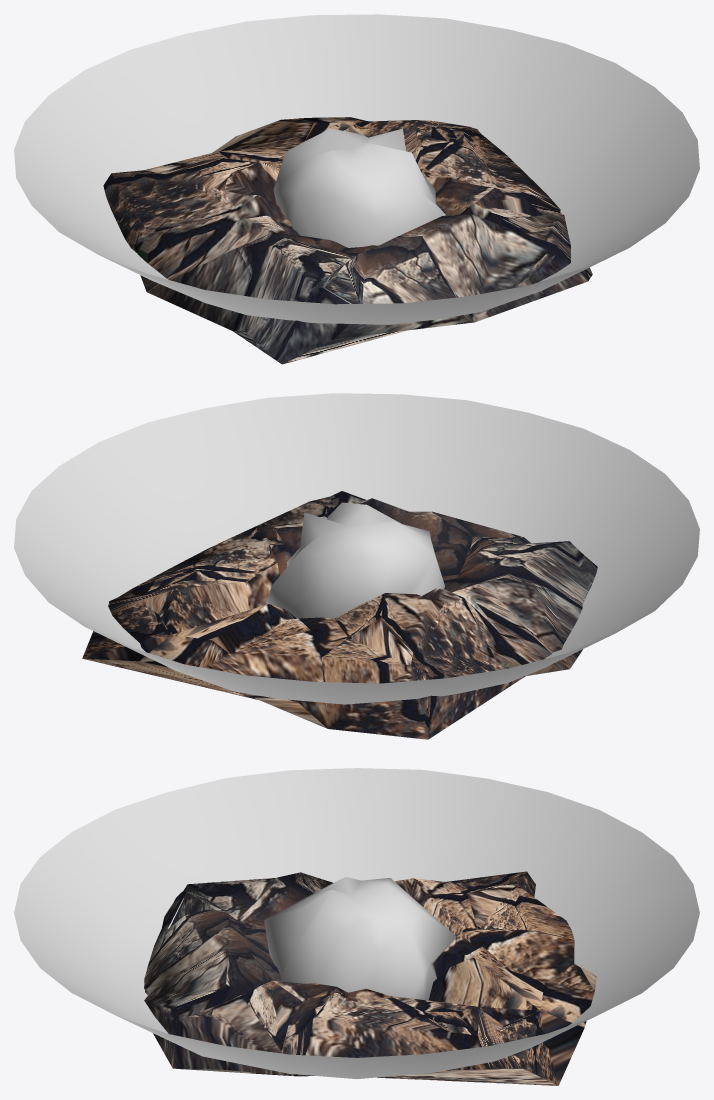
The model's file is CharacterSkill.fbx.
3 views of the same model, one above another, from view 1: azimuth 30°, elevation 25°; view 2: azimuth 150°, elevation 25°; view 3: azimuth 270°, elevation 25° (orthographic).
Parts seen in each view (by area): view 1: CircleSkill, ToprakPieceSkill, StoneSkill; view 2: CircleSkill, ToprakPieceSkill, StoneSkill; view 3: CircleSkill, ToprakPieceSkill, StoneSkill.
Boxes of the visible parts, x1,y1,x2,y2 form: CircleSkill: [14, 14, 699, 324]; ToprakPieceSkill: [103, 117, 592, 364]; StoneSkill: [273, 128, 445, 247]; CircleSkill: [14, 393, 699, 704]; ToprakPieceSkill: [82, 491, 597, 739]; StoneSkill: [266, 502, 444, 618]; CircleSkill: [14, 768, 699, 1078]; ToprakPieceSkill: [144, 871, 596, 1085]; StoneSkill: [264, 877, 456, 1000].
Size of the model in its own units: 859 by 241 by 859.
